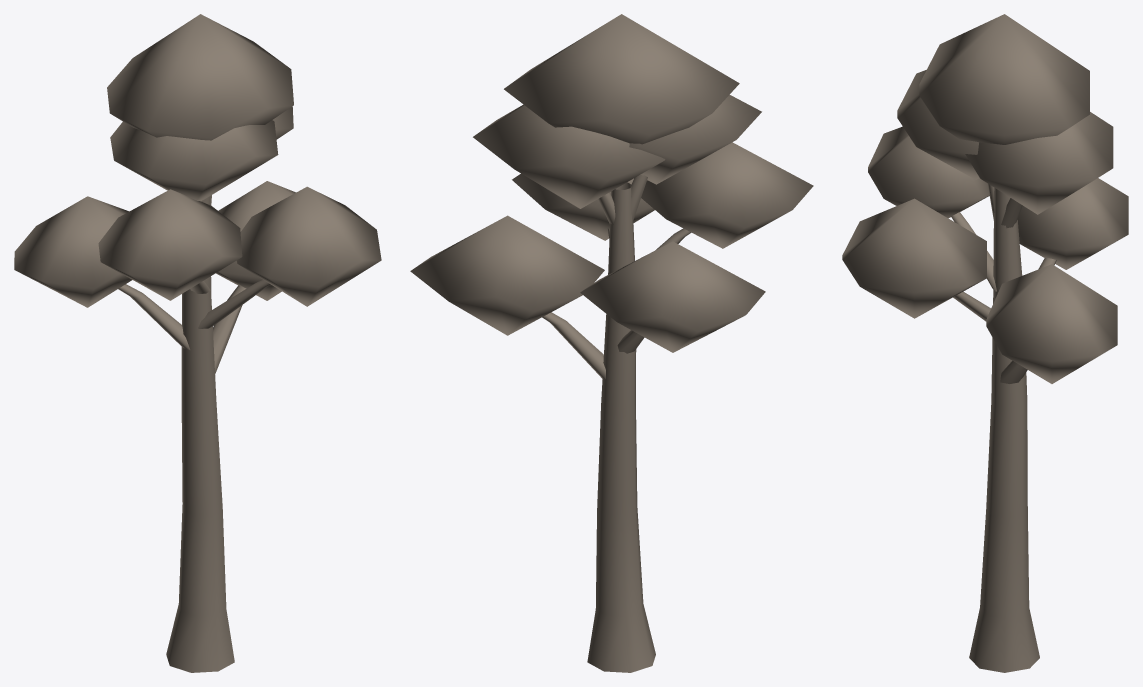
File: tree_sal_forest.glb
3 views of the same model, side by side, from view 1: azimuth 30°, elevation 25°; view 2: azimuth 150°, elevation 25°; view 3: azimuth 270°, elevation 25° (orthographic).
Parts seen in each view (by area): view 1: Tree_Sal_Forest; view 2: Tree_Sal_Forest; view 3: Tree_Sal_Forest.
Part boxes in pixels (left/top/right/bottom): Tree_Sal_Forest: left=14, top=14, right=381, bottom=672; Tree_Sal_Forest: left=410, top=14, right=813, bottom=672; Tree_Sal_Forest: left=842, top=14, right=1128, bottom=672.
Size of the model in its own units: 7.86 by 15 by 6.04.
